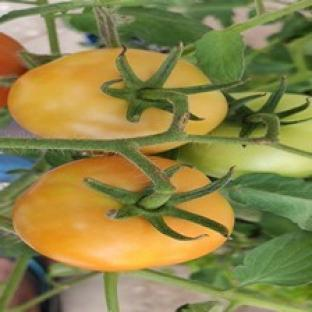Tomato: (13, 155, 227, 271), (9, 49, 172, 139), (179, 144, 311, 176), (0, 33, 26, 76), (0, 155, 34, 182)
